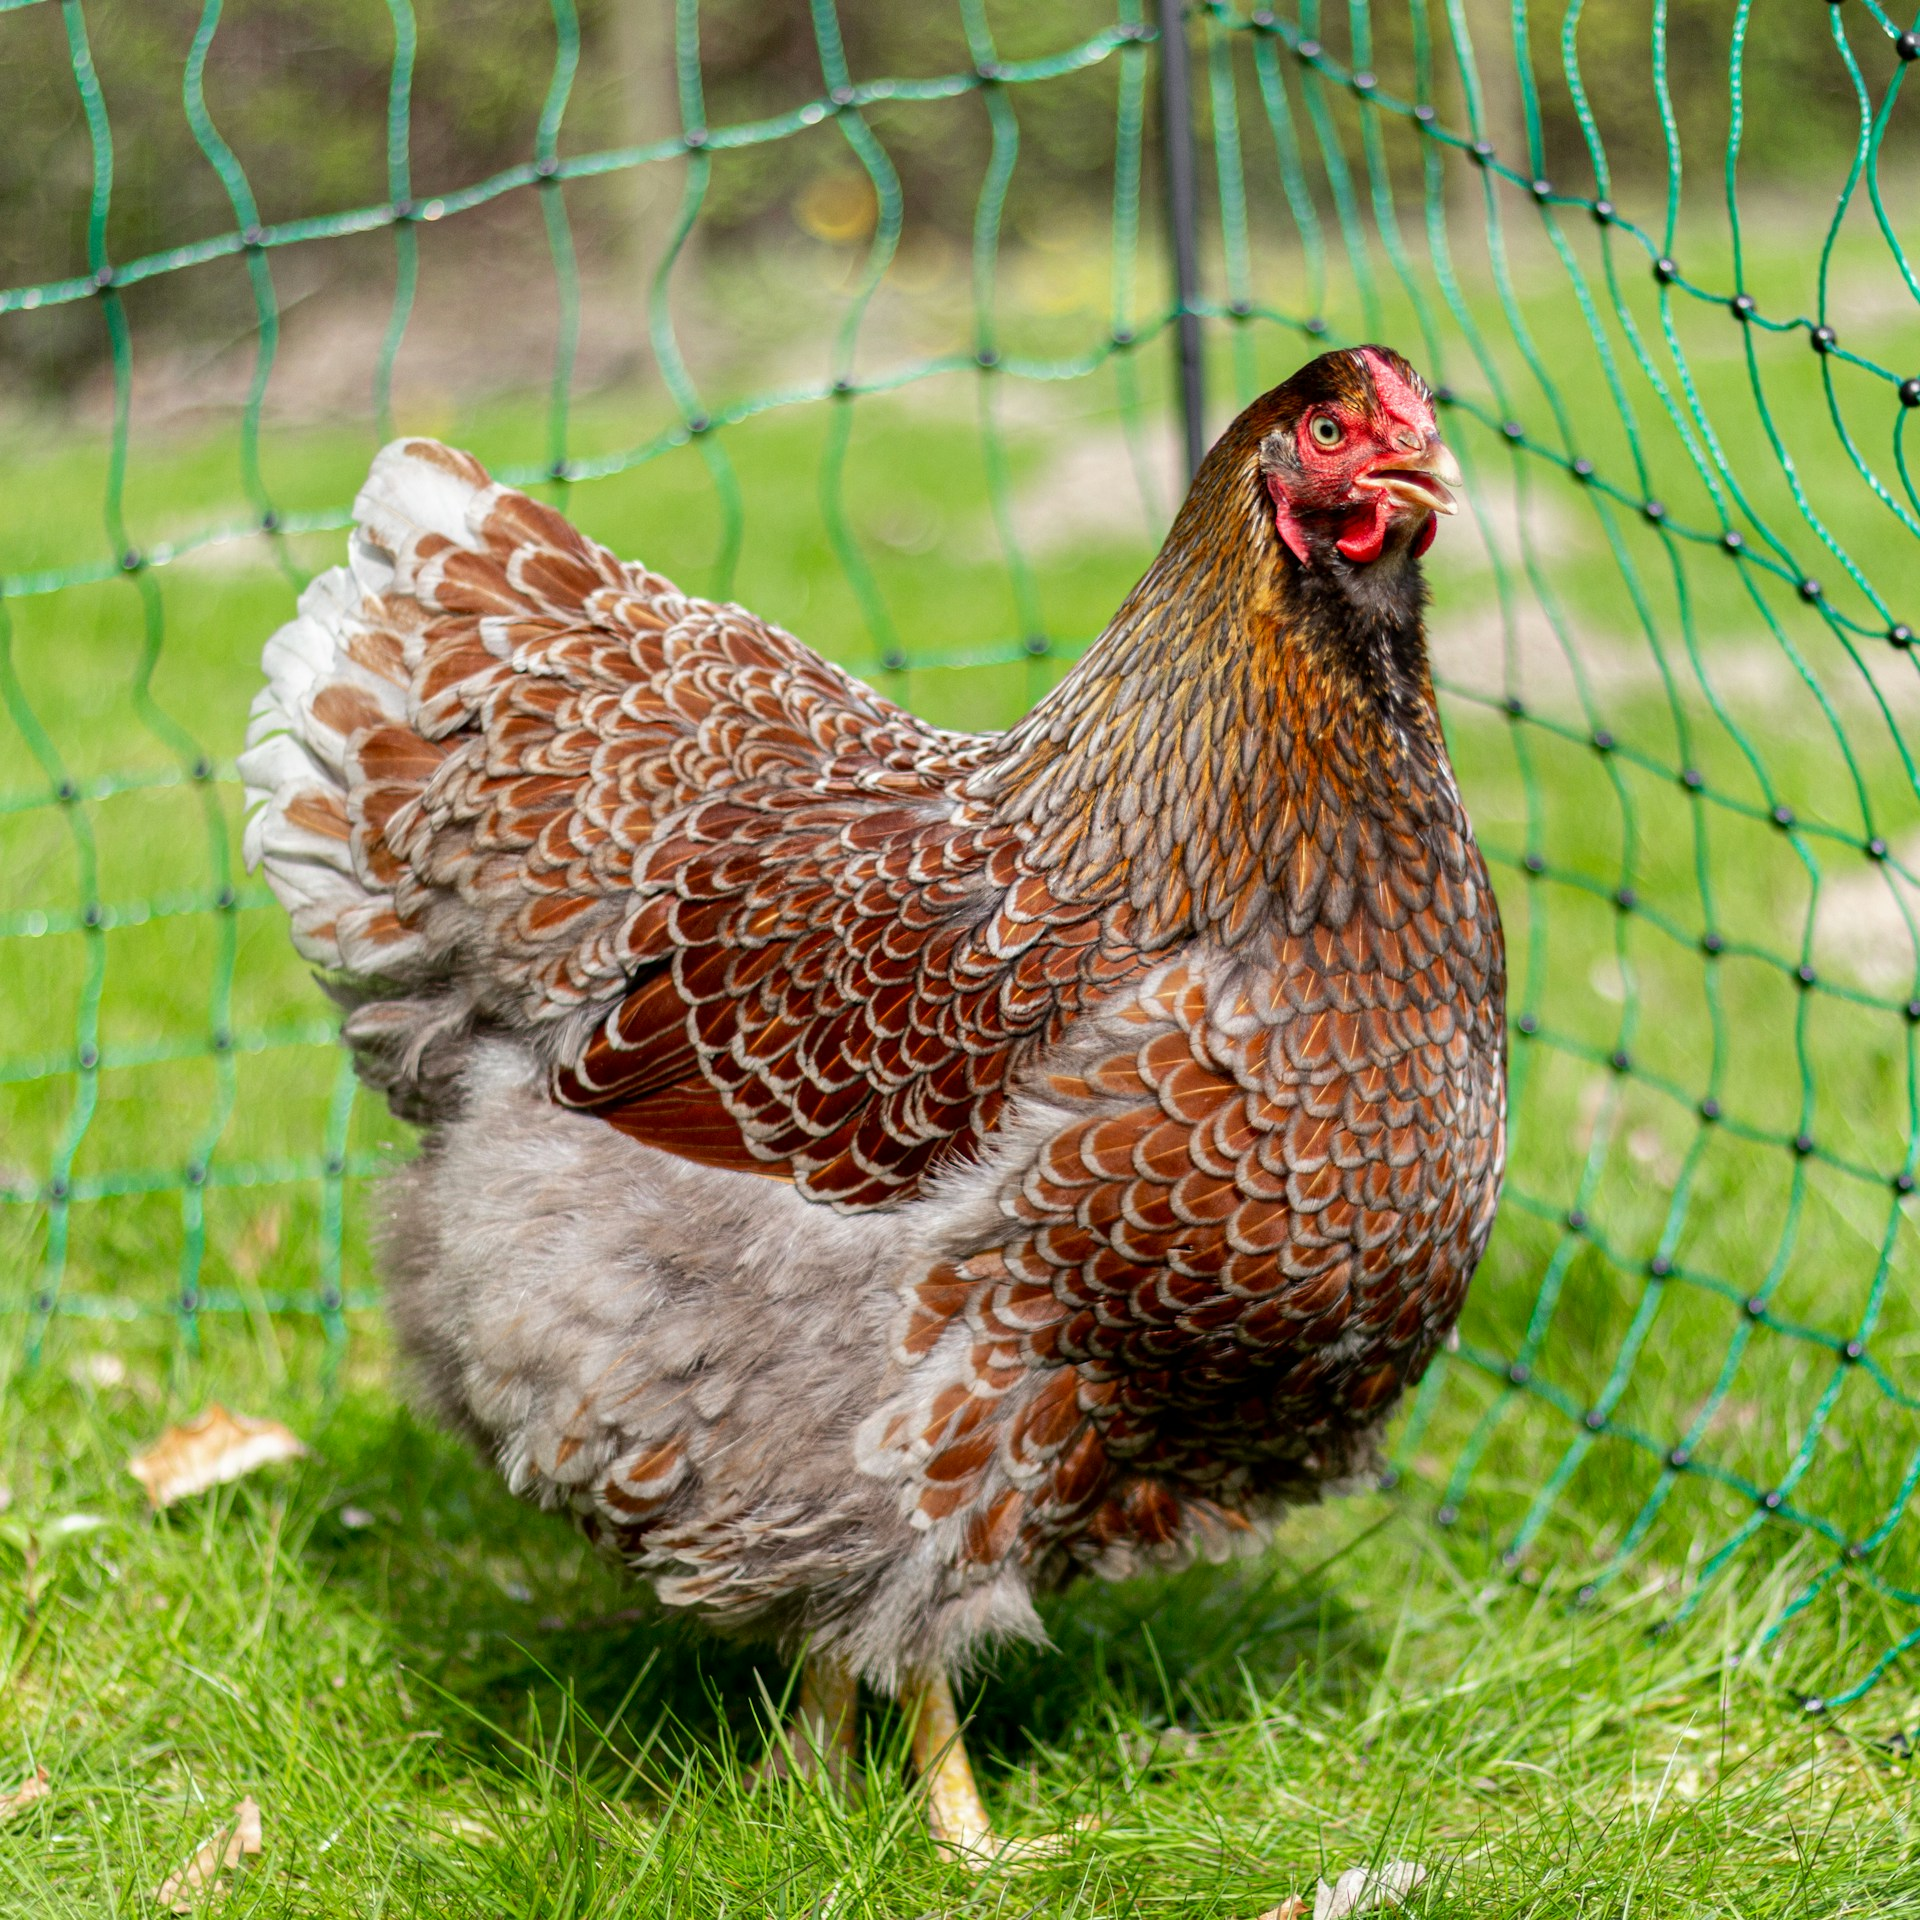hen: (230, 332, 1561, 1885)
